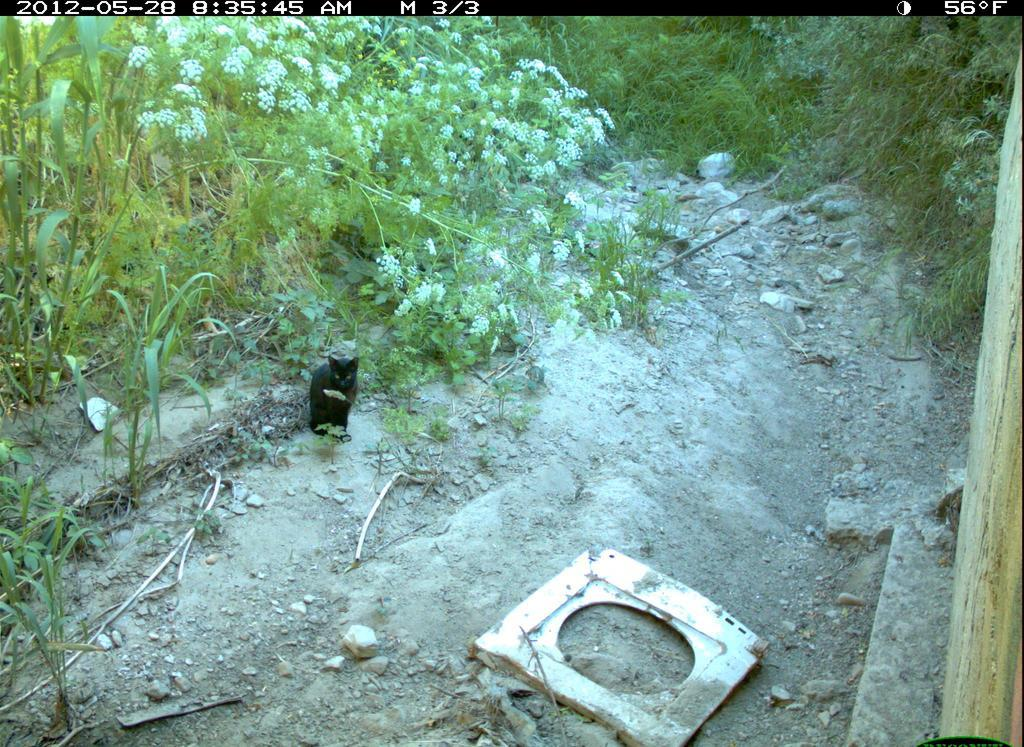opossum: (300, 344, 368, 443)
